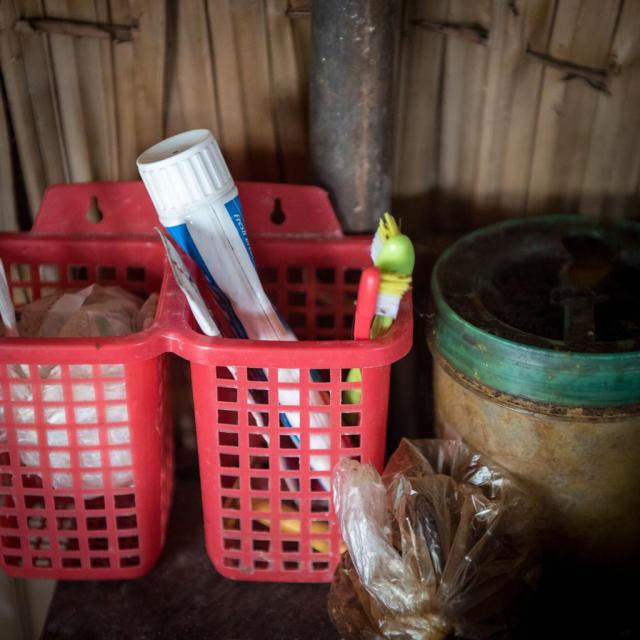Toothpaste: (130, 115, 342, 441)
